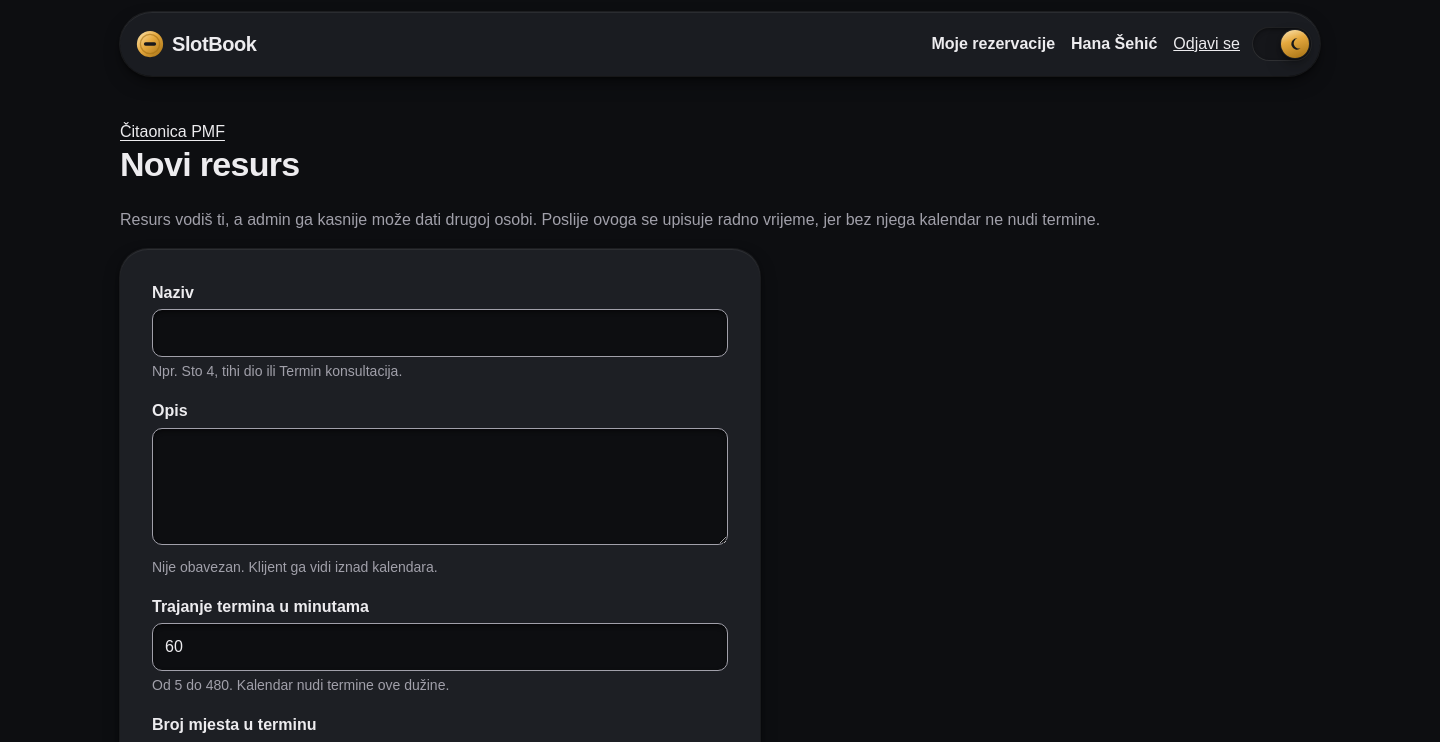
Scenario: novi resurs › cijena koja nije iznos u KM se ne šalje, nego piše šta treba upisati
This screenshot has width=1440, height=742.
Type "Sala za mali fudbal" into the field labelled "Naziv" at (440, 334), box [152, 310, 728, 358]
(page scrolled)
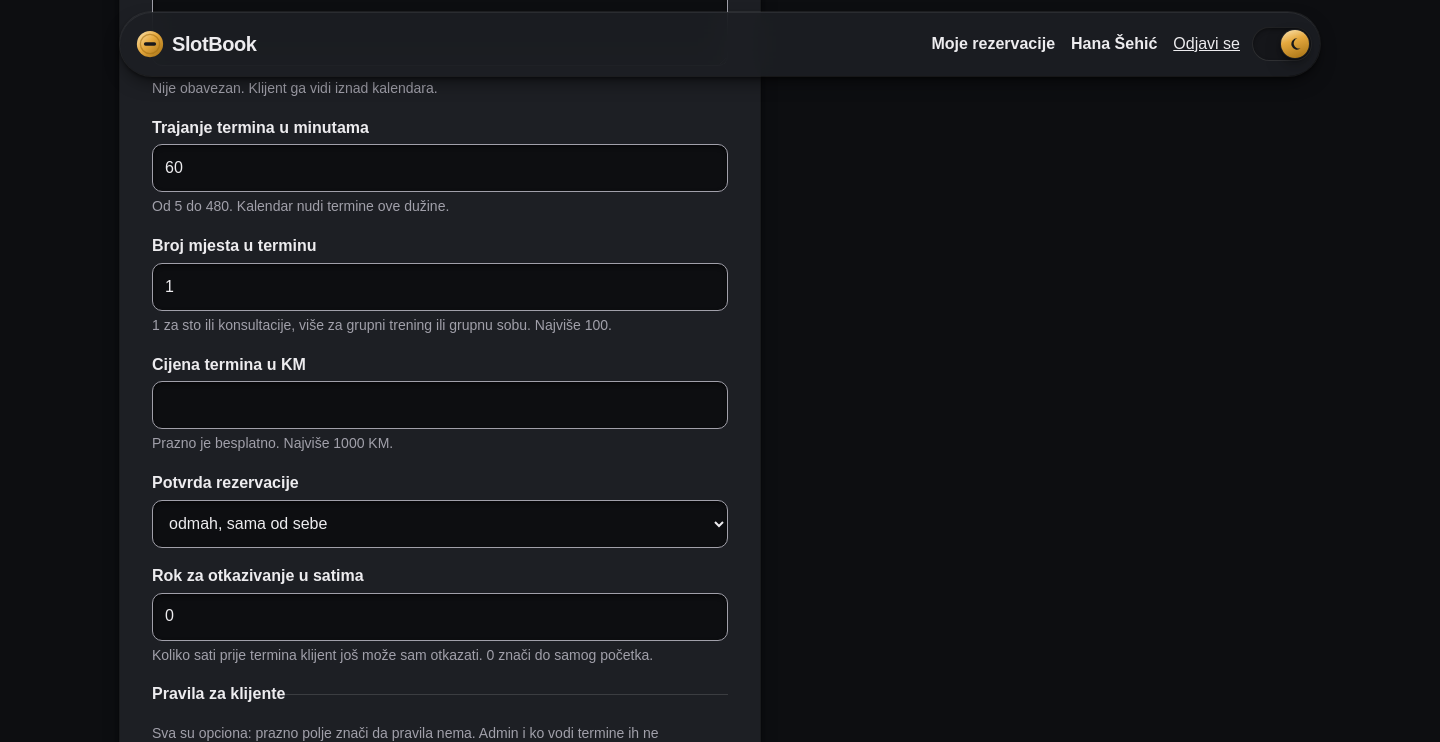
Type "15 KM" into the field labelled "Cijena termina u KM" at (440, 405), box [152, 381, 728, 429]
(page scrolled)
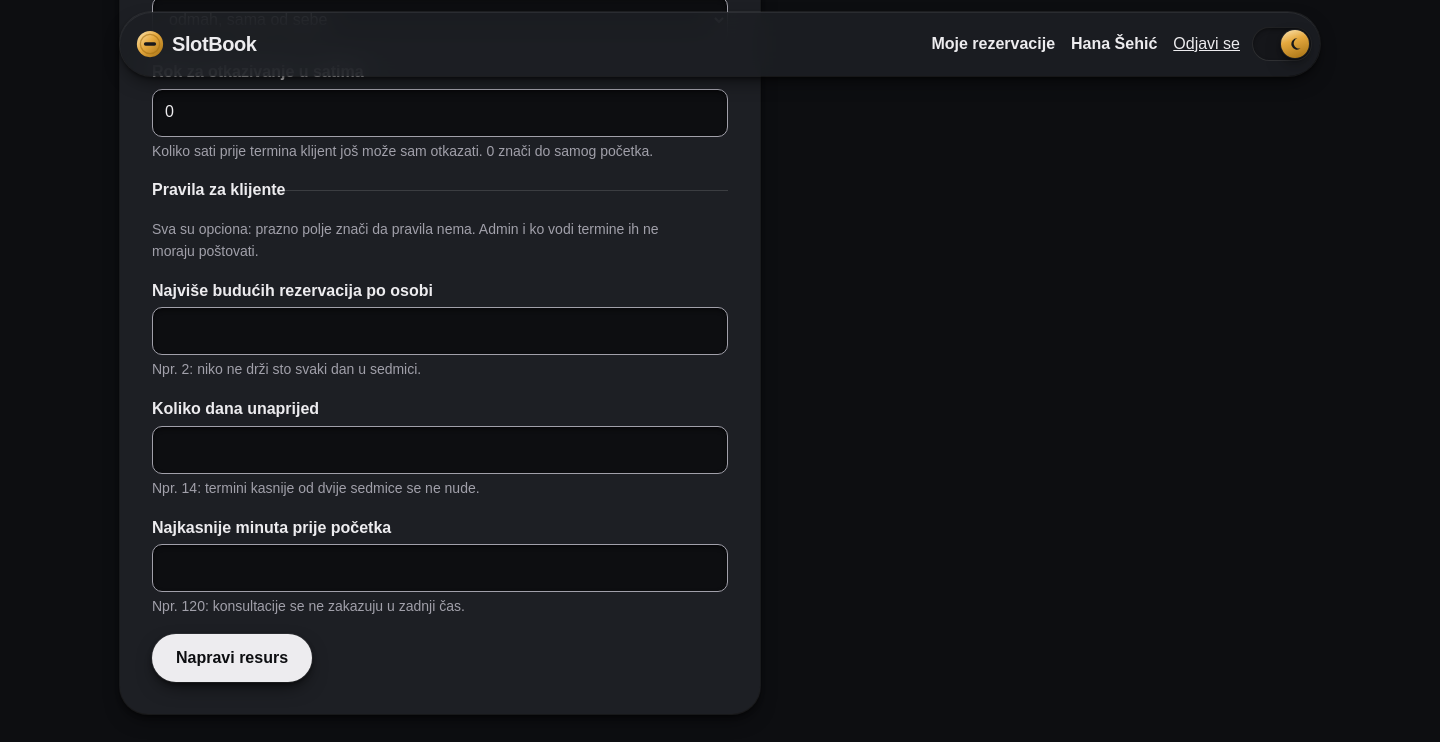
Click the button "Napravi resurs" at (232, 658), box [152, 634, 312, 682]
(page scrolled)
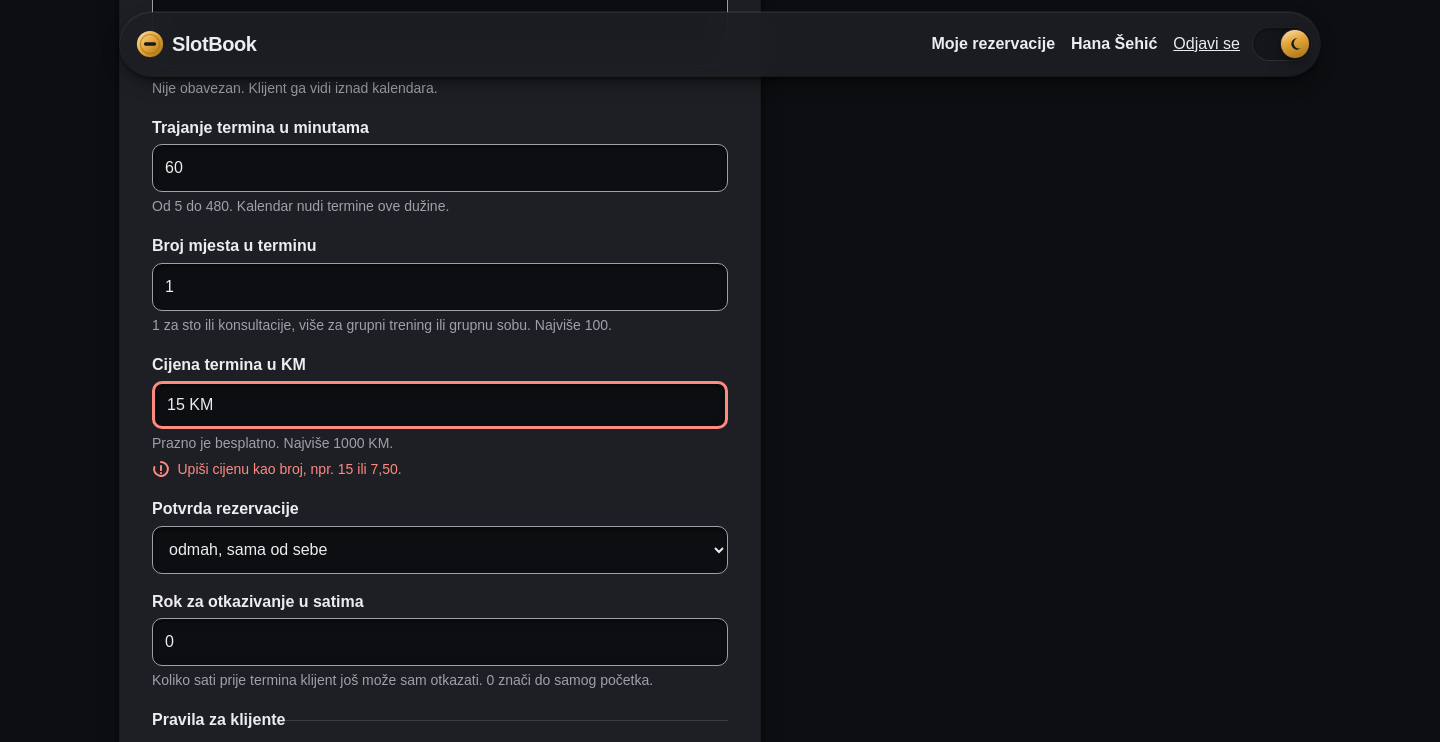
expect the text "Upiši cijenu kao broj, npr. 15 ili 7,50." is shown: met, box [178, 461, 402, 477]
